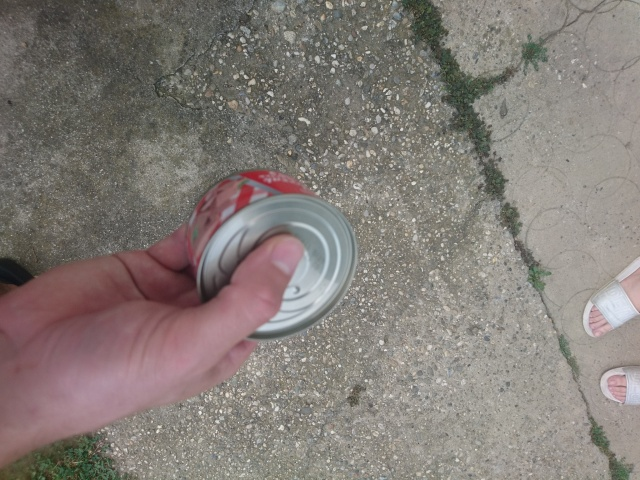Podravka Luncheon Meat 150g: (181, 164, 362, 346)
